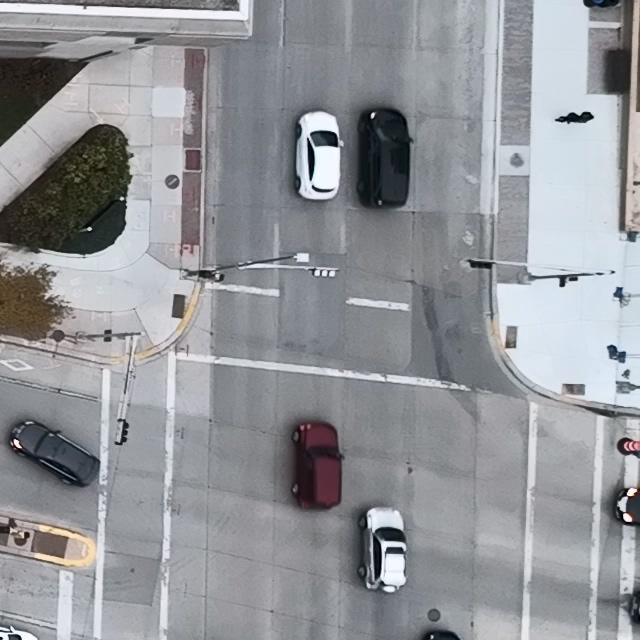car: (9, 419, 100, 487), (356, 108, 413, 208), (291, 422, 345, 511), (294, 110, 344, 202), (358, 506, 409, 592), (614, 487, 640, 525)
